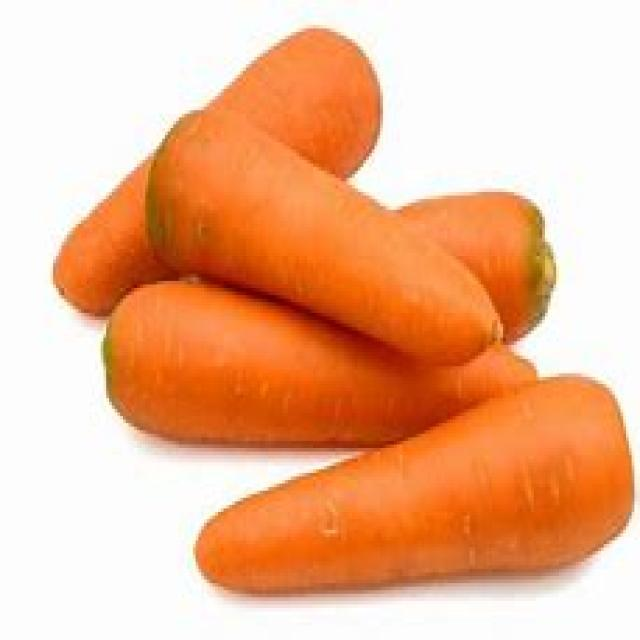carrot: (142, 104, 512, 369), (193, 378, 636, 596), (106, 289, 532, 445)
